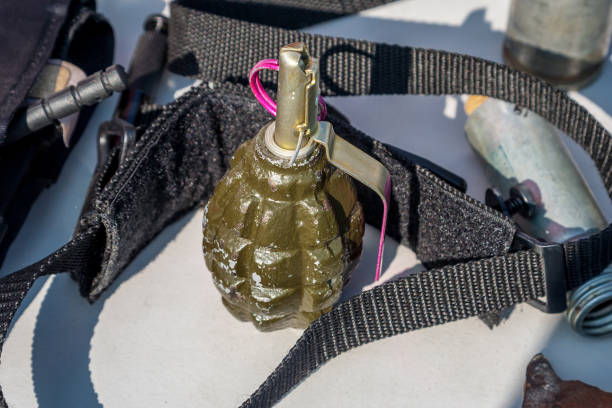e1: (203, 43, 393, 330)
